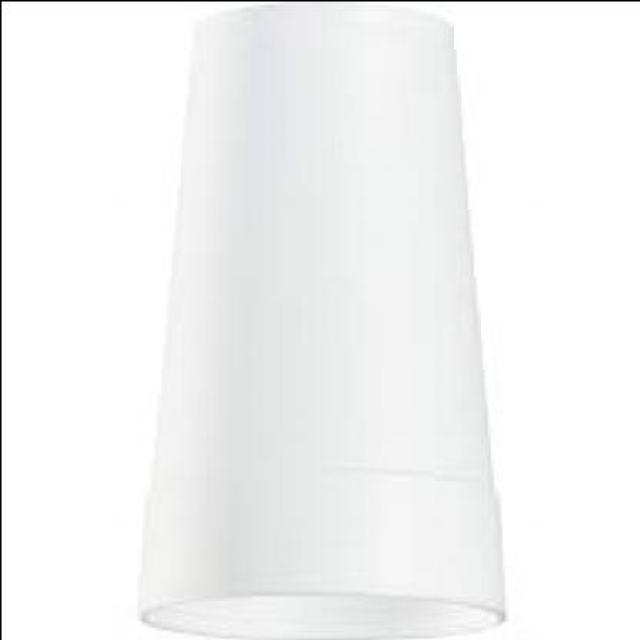PAPER: (132, 24, 503, 638)
